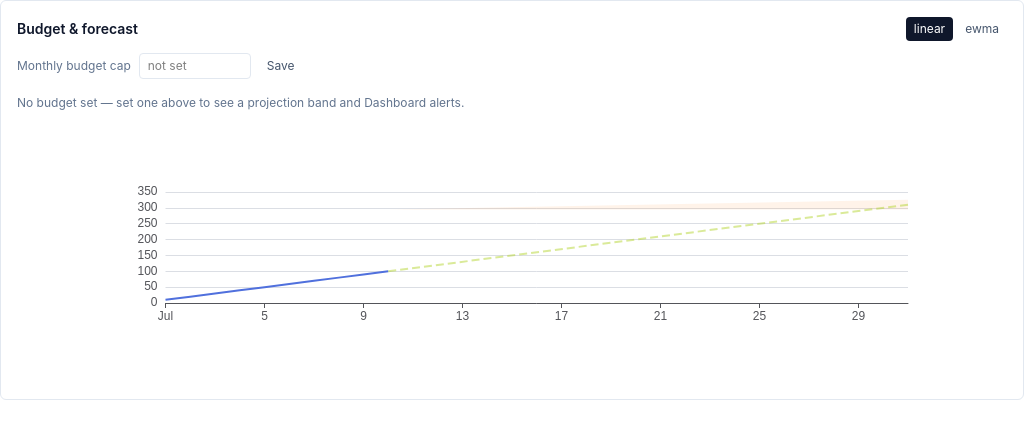
Test case: BudgetForecastPanel › surfaces a failed budget save without silently succeeding
This screenshot has width=1024, height=442.
Check: the text "No budget set" is shown, box 17,95 -> 464,110
Type "500" into the number field labelled "Monthly budget cap" at (195, 66), box 139,53 -> 251,79
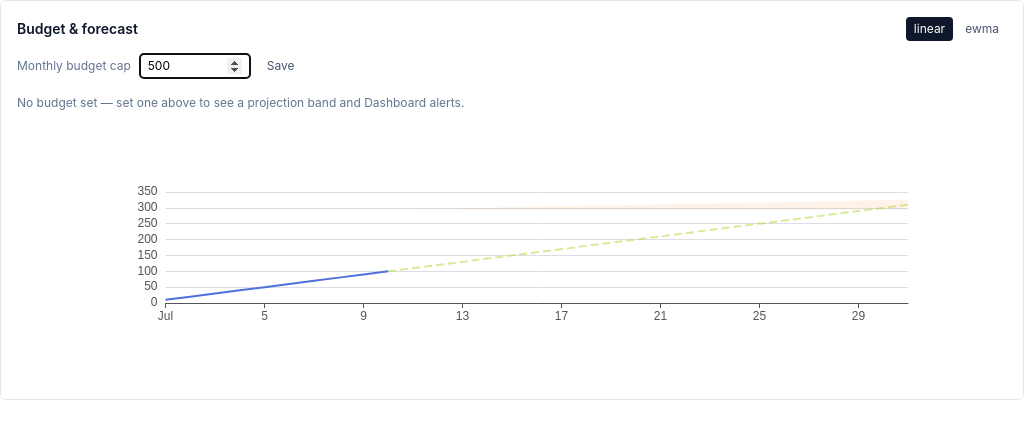
Click the button "Save" at (281, 66), box 259,54 -> 303,78
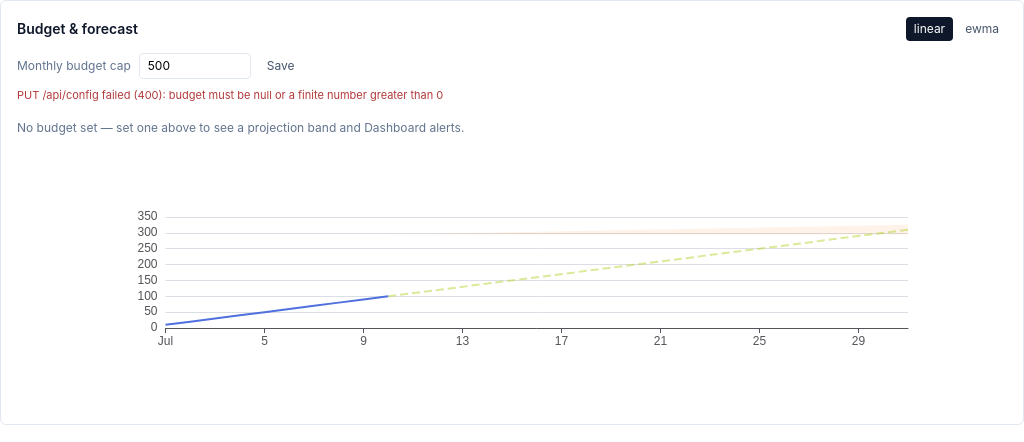
Check: the message shows "budget must be null or a finite number", box 17,88 -> 443,102
